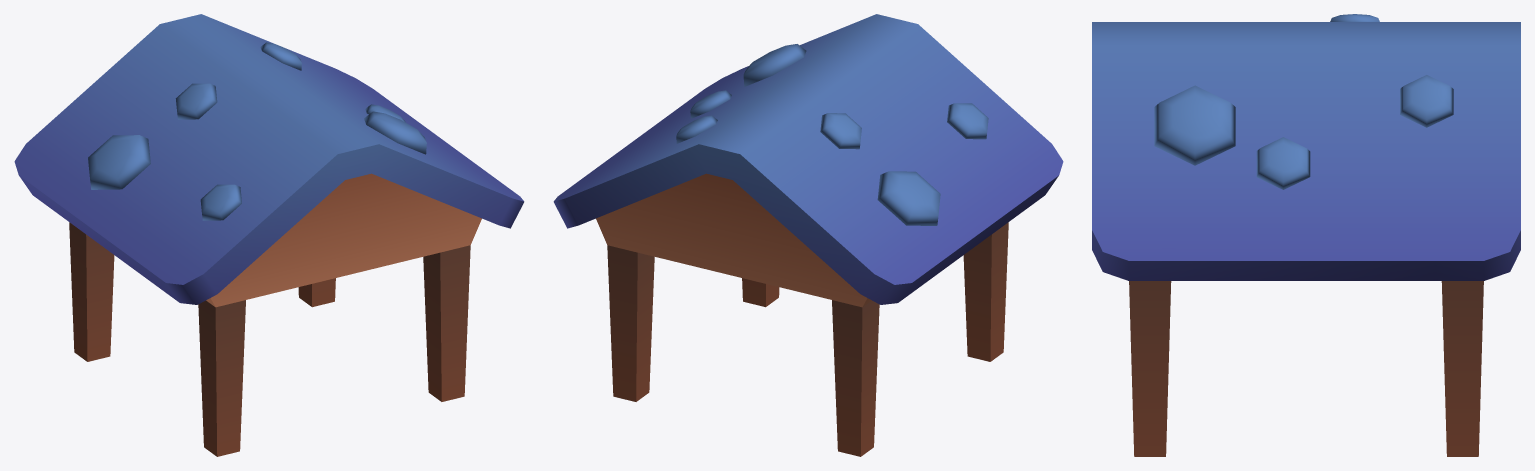
File: building-roof.glb
3 views of the same model, side by side, from view 1: azimuth 30°, elevation 25°; view 2: azimuth 150°, elevation 25°; view 3: azimuth 270°, elevation 25° (orthographic). The views are drawn at different scales.
Visible parts, largest first — view 1: building-roof; view 2: building-roof; view 3: building-roof.
Part boxes in pixels (box(x1,y1,x2,y2)): building-roof: box(14, 14, 524, 456); building-roof: box(553, 14, 1063, 456); building-roof: box(1092, 14, 1520, 456).
Size of the model in its own units: 1.34 by 1.05 by 1.17.
